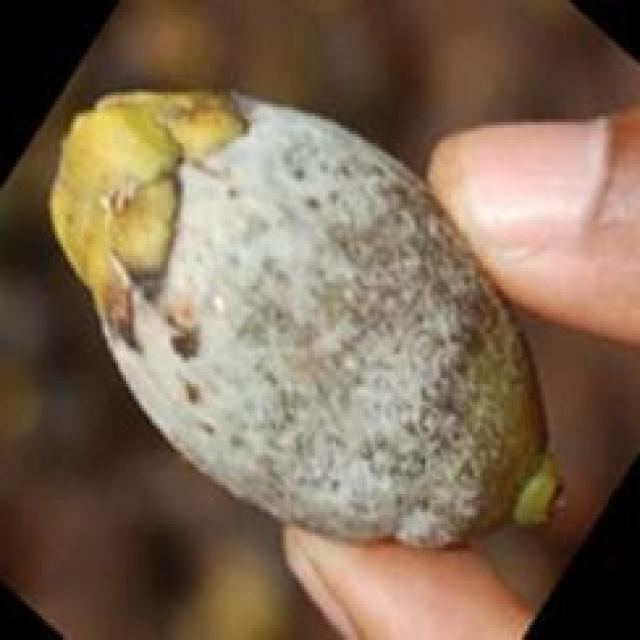damaged: (50, 92, 551, 542)
